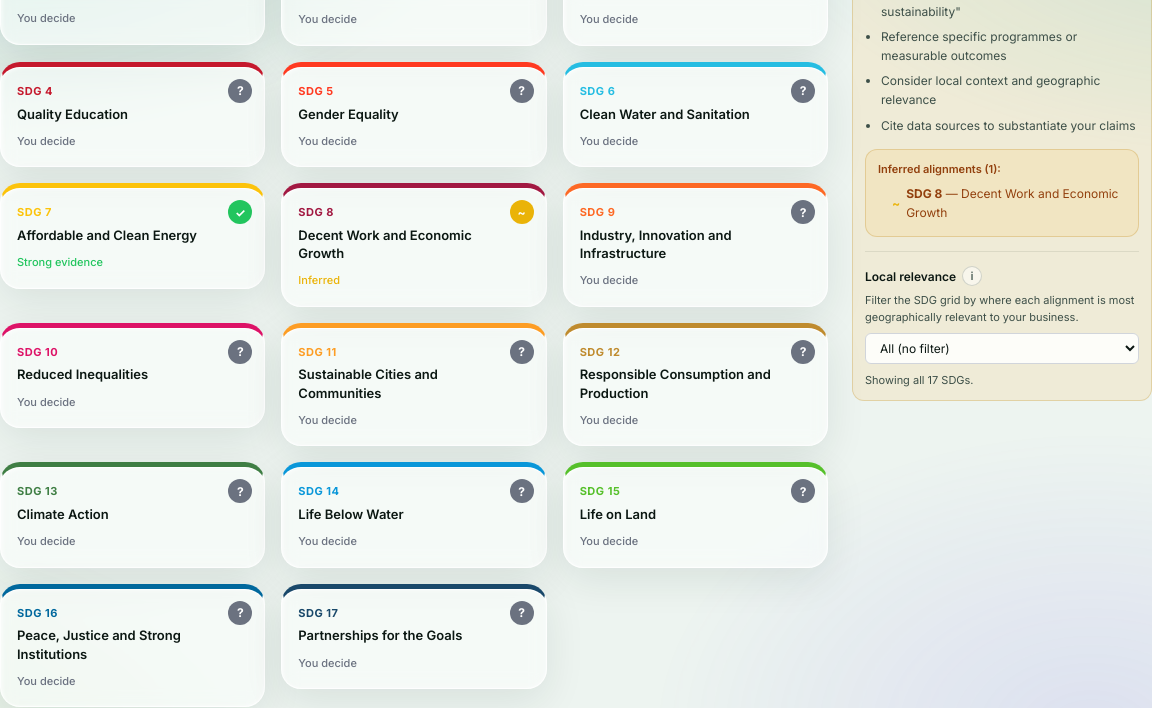
it: SDGMapperStep › filters SDGs strictly by local relevance when mapping ready
This screenshot has width=1152, height=708.
(page scrolled)
Select "Australia" in the dropdown named "Filter SDGs by geographic relevance": (1002, 349) [865, 333, 1139, 364]
(page scrolled)
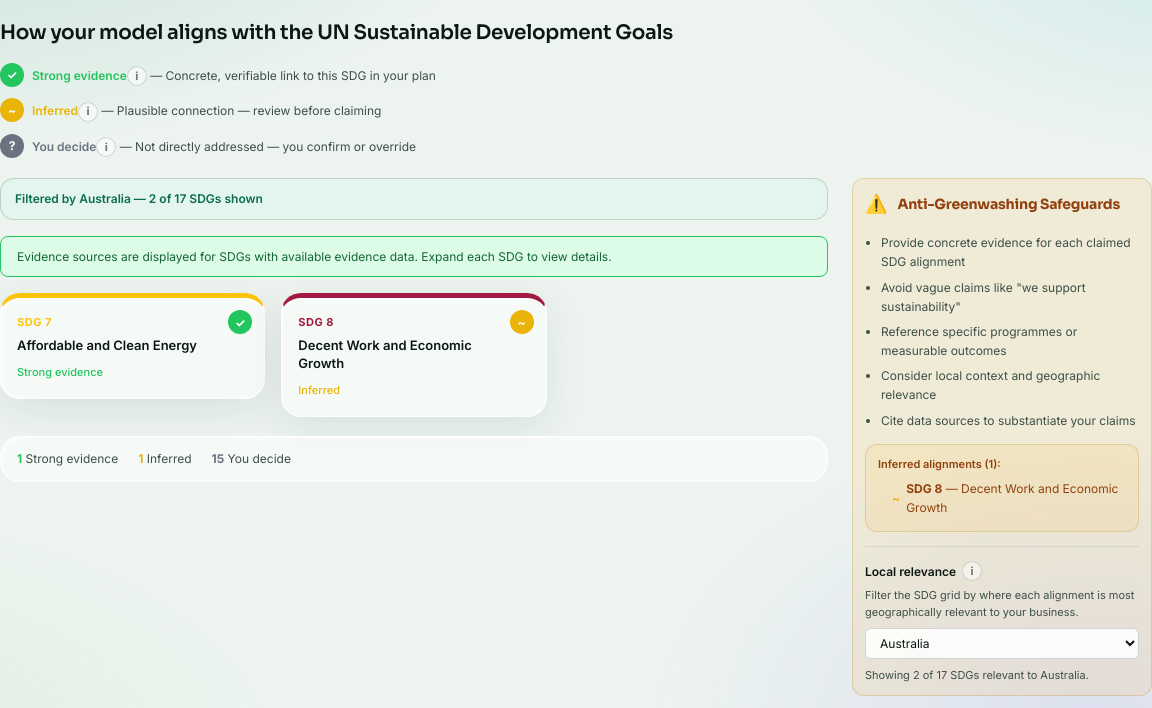
Result: the text "Showing 2 of 17 SDGs relevant to Australia." is shown at [865, 668, 1089, 682]
Result: the text "Filtered by Australia — 2 of 17 SDGs shown" is shown at [0, 178, 828, 220]
